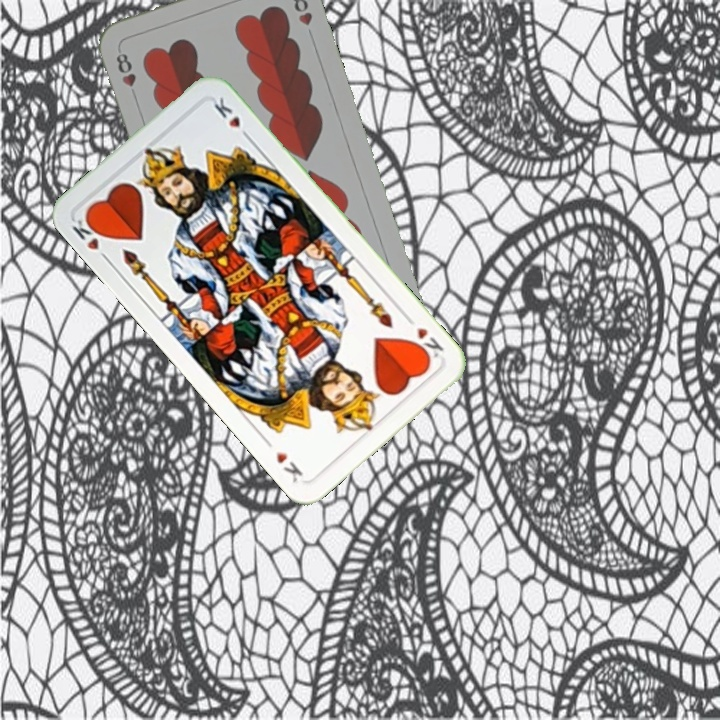H8: (112, 49, 140, 102)
HK: (67, 209, 113, 265), (408, 323, 447, 364)
